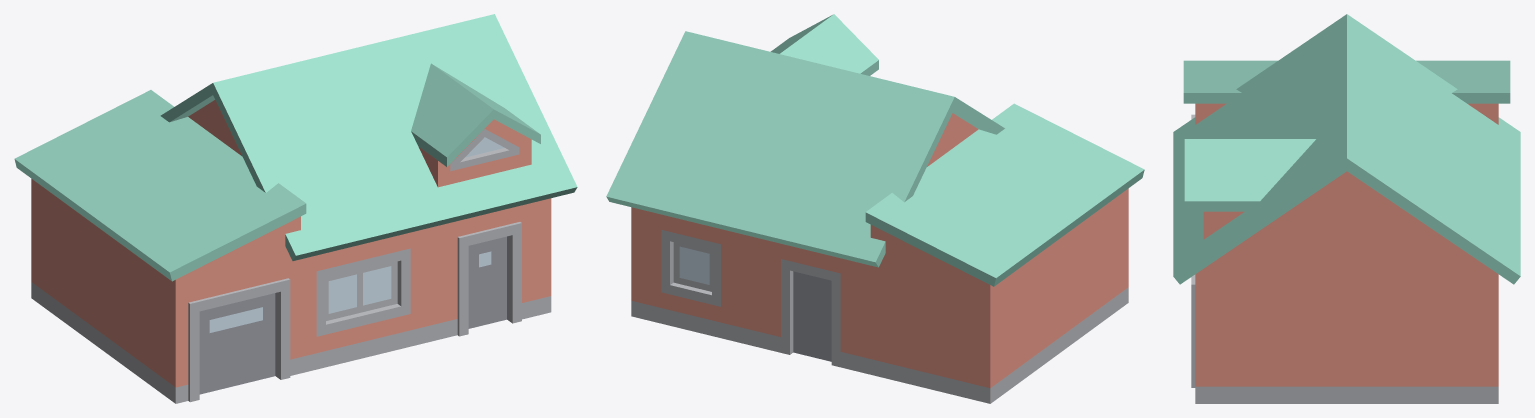
File: house4.fbx
3 renders of one model, left to right at view 1: azimuth 30°, elevation 25°; view 2: azimuth 150°, elevation 25°; view 3: azimuth 270°, elevation 25°, orthographic. The views are drawn at different scales.
Parts seen in each view (by area): view 1: house_type04; view 2: house_type04; view 3: house_type04.
Part boxes in pixels (x1=…): house_type04: x1=14, y1=14, x2=577, y2=403; house_type04: x1=606, y1=14, x2=1144, y2=403; house_type04: x1=1173, y1=14, x2=1520, y2=403.
Bounding box in the file's own units: 1286 × 738 × 916.
